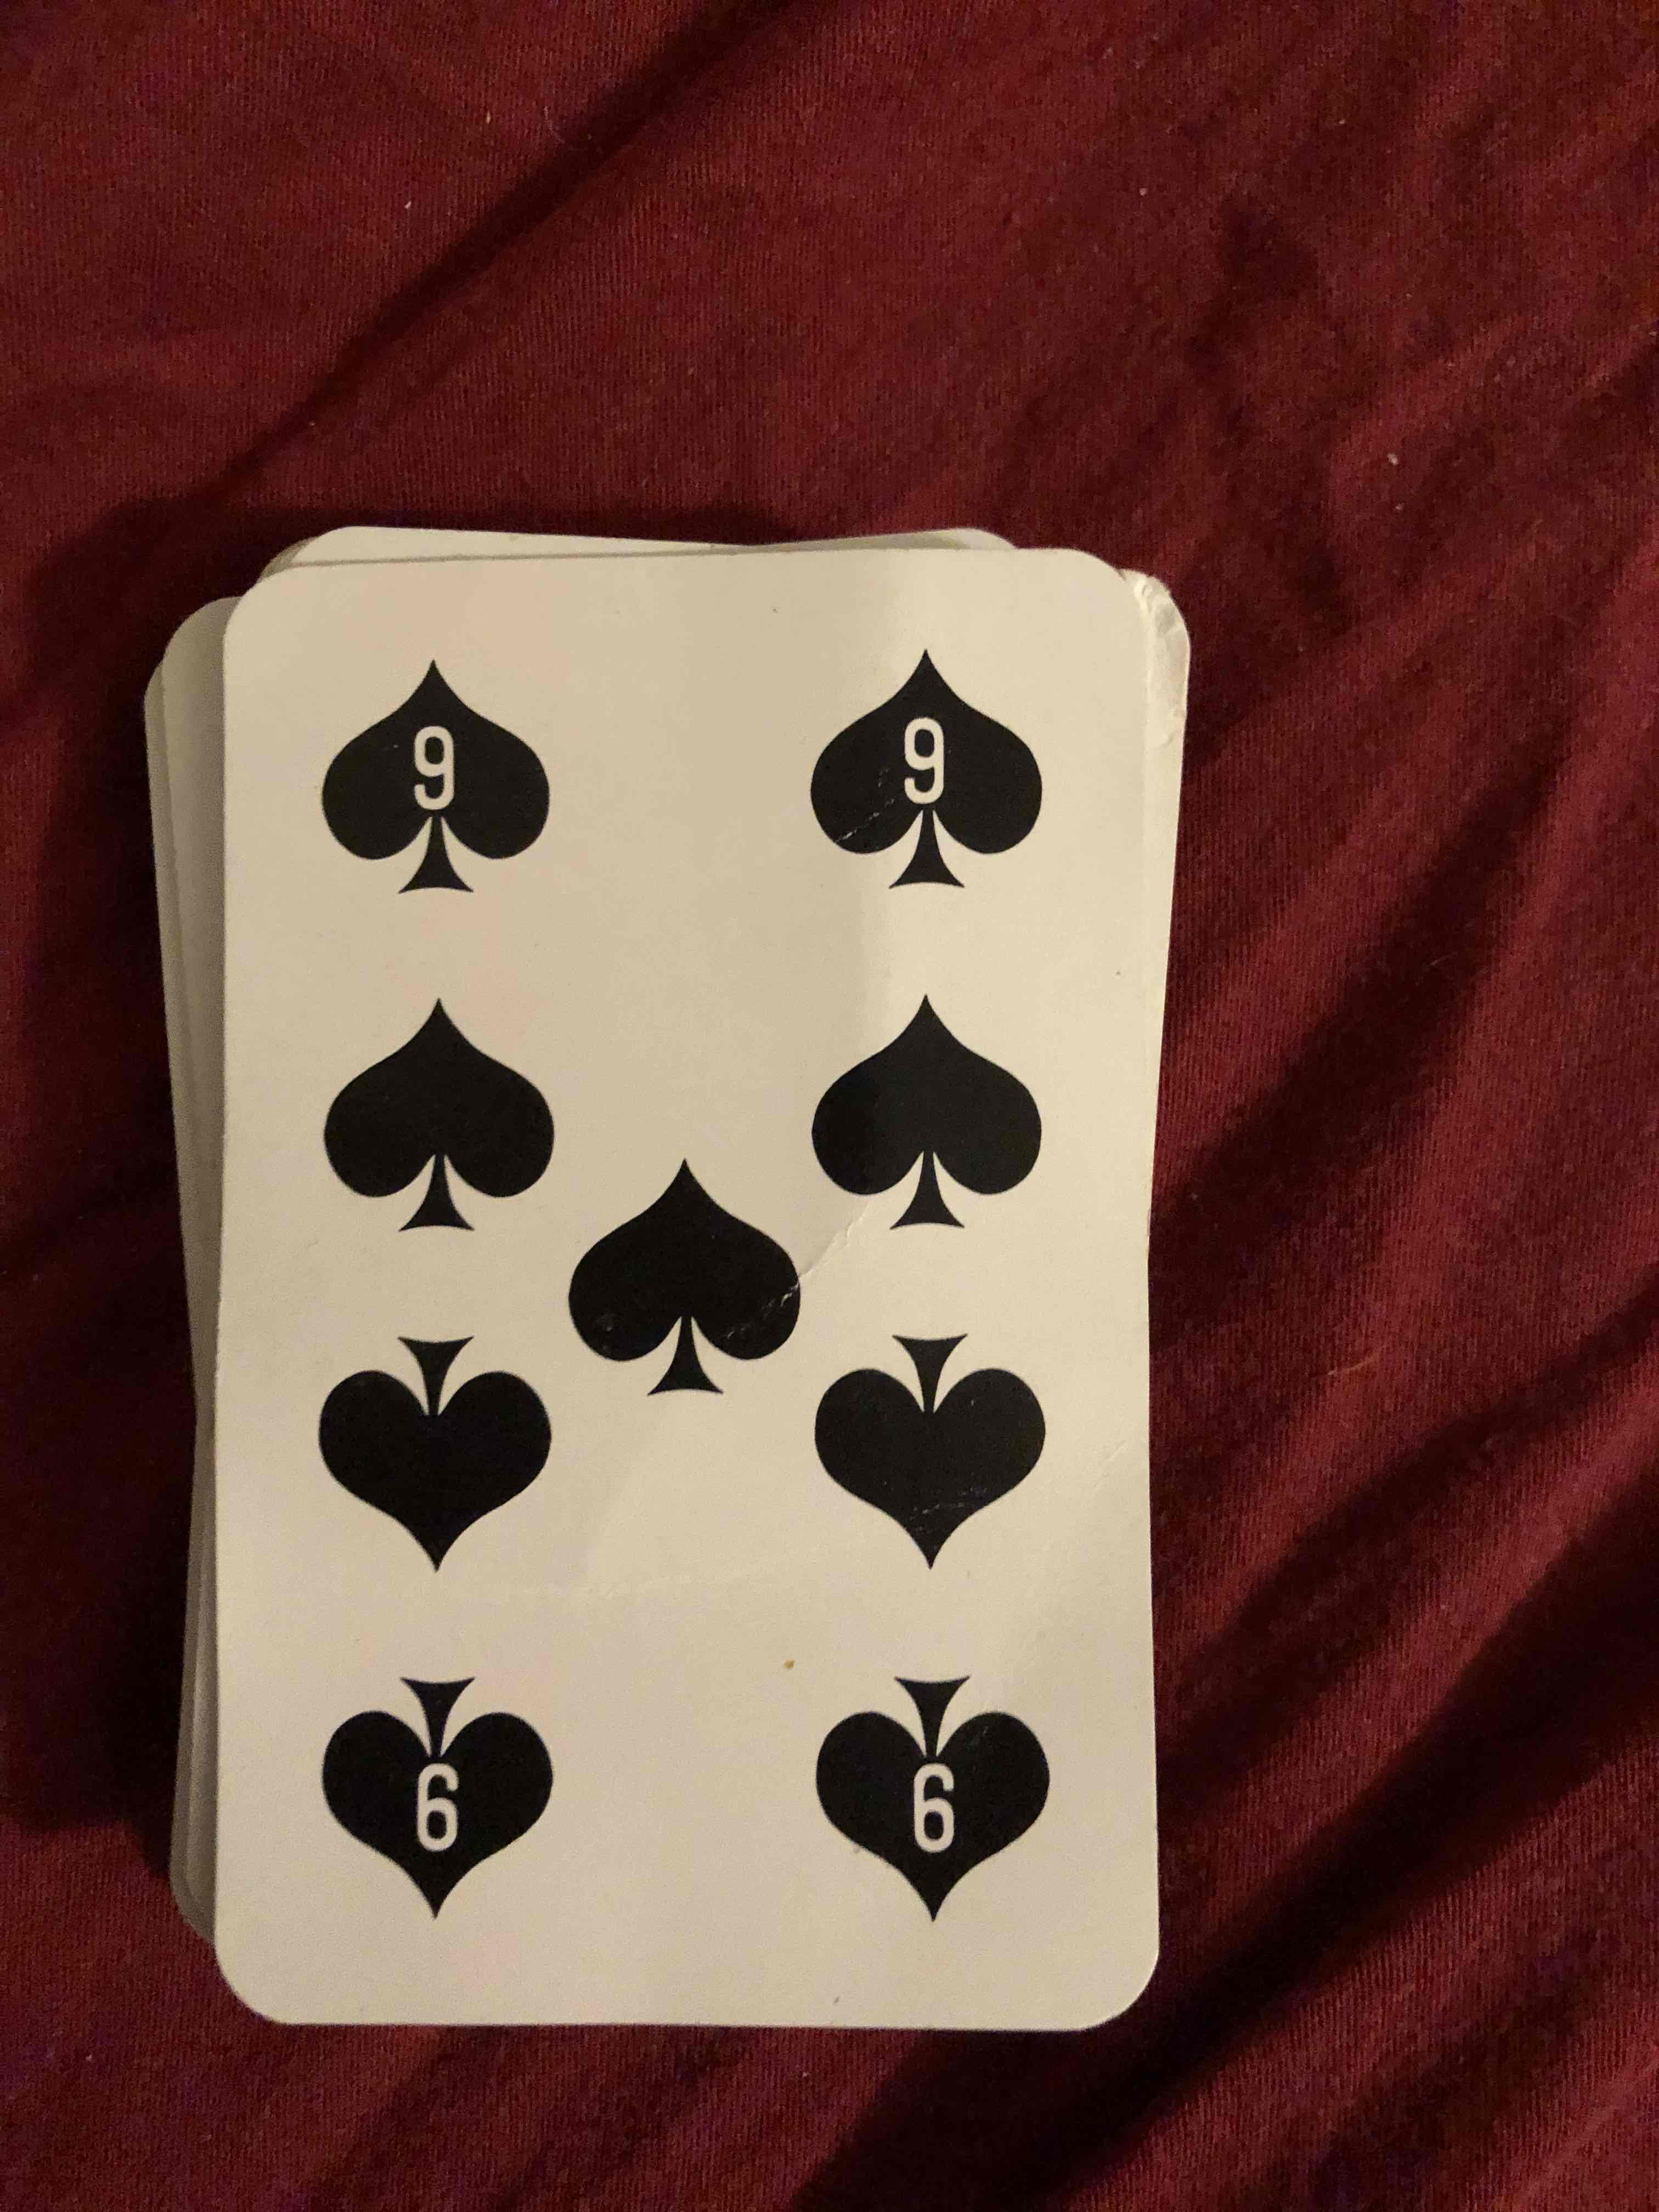spades9: (253, 590, 1150, 2033)
